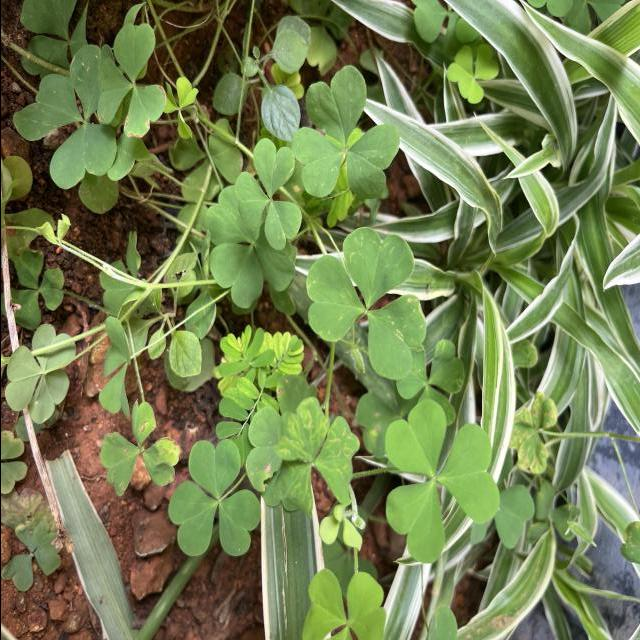Oxalis corniculata: (382, 398, 500, 565), (304, 224, 427, 382), (290, 66, 400, 200), (166, 438, 262, 558), (270, 394, 360, 520), (95, 21, 167, 140), (232, 136, 302, 252), (300, 567, 387, 640), (444, 43, 498, 104)
